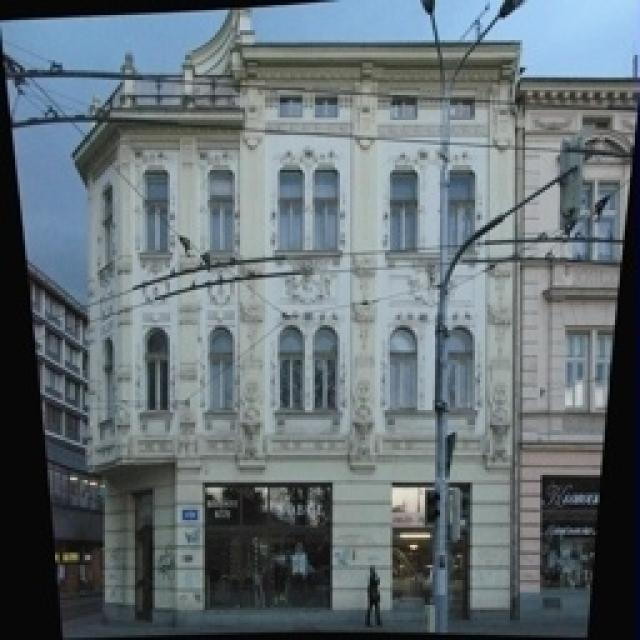building: (82, 30, 530, 612)
